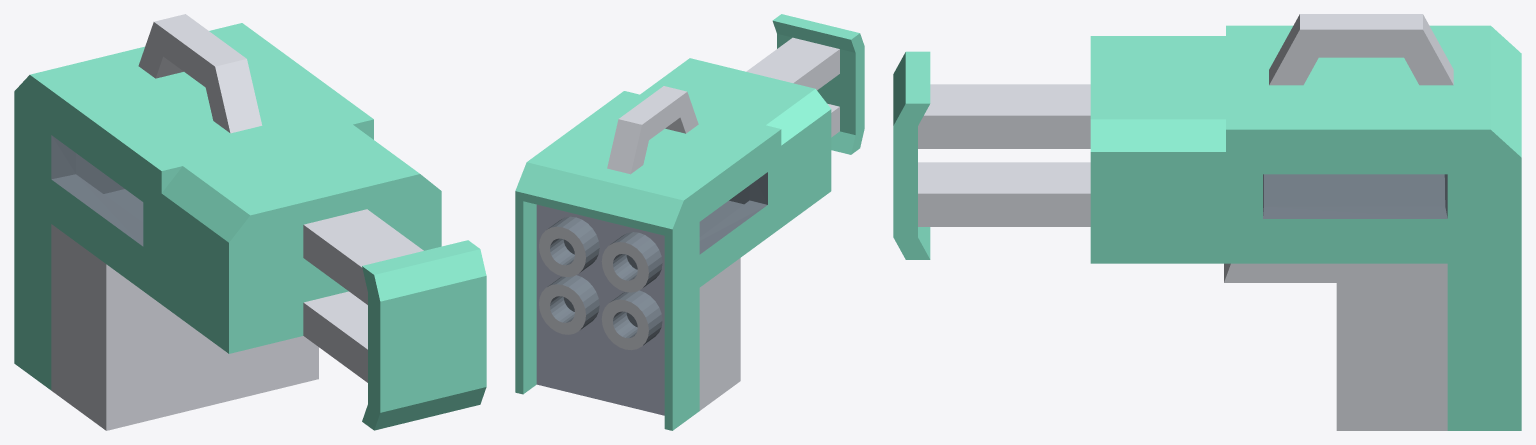
File: ship.dae
3 renders of one model, left to right at view 1: azimuth 30°, elevation 25°; view 2: azimuth 150°, elevation 25°; view 3: azimuth 270°, elevation 25°, orthographic. The views are drawn at different scales.
Visible parts, largest first — view 1: blasterO.001; view 2: blasterO.001; view 3: blasterO.001.
Part boxes in pixels (left/top/right/bottom): blasterO.001: left=14, top=14, right=486, bottom=430; blasterO.001: left=515, top=14, right=864, bottom=430; blasterO.001: left=893, top=14, right=1521, bottom=430.
Size of the model in its own units: 0.2 by 0.51 by 0.32.
